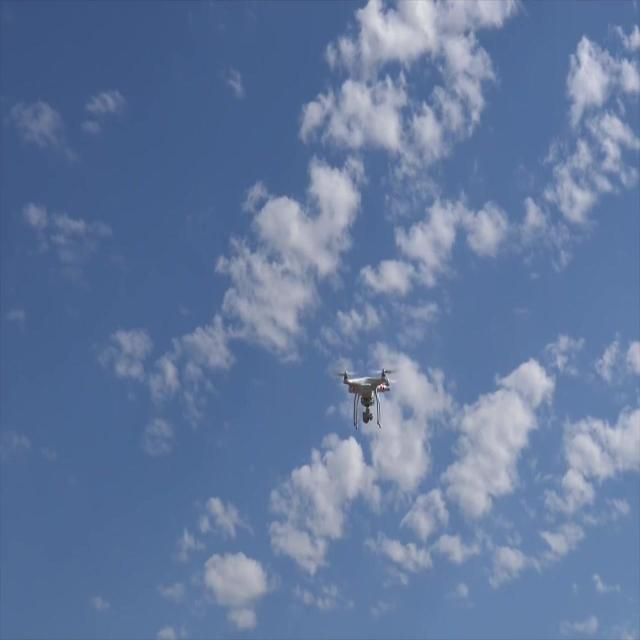drone: (342, 366, 394, 434)
